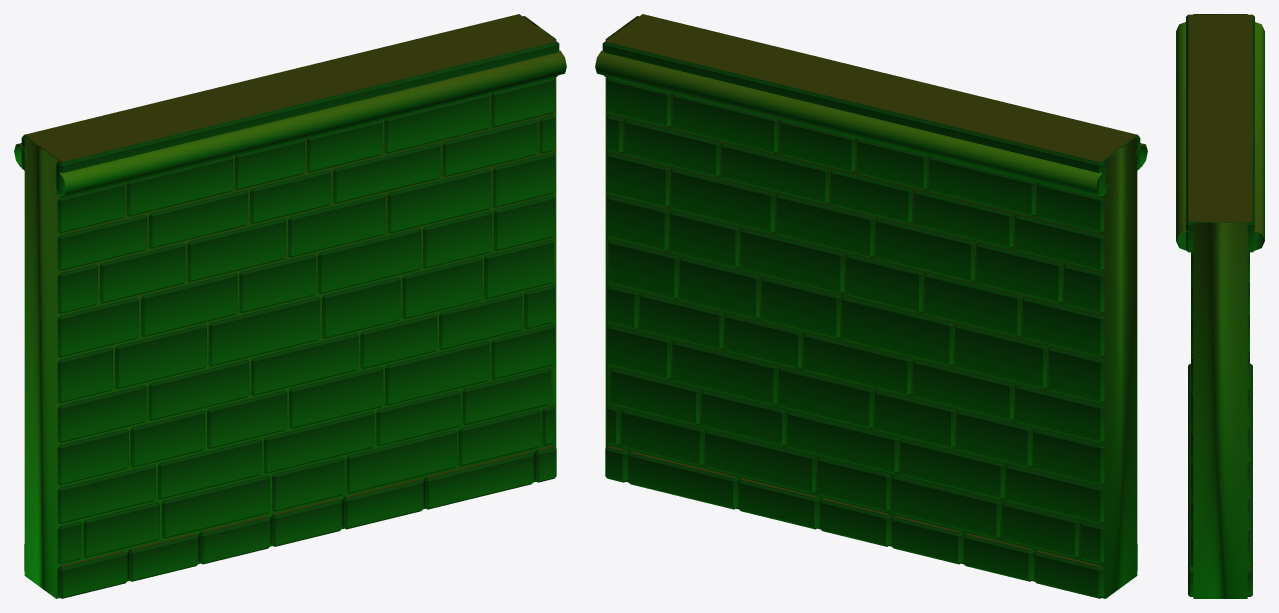
File: shrine_wall_straight.glb
3 renders of one model, left to right at view 1: azimuth 30°, elevation 25°; view 2: azimuth 150°, elevation 25°; view 3: azimuth 270°, elevation 25°, orthographic. The views are drawn at different scales.
Parts seen in each view (by area): view 1: shrine_wall_straight; view 2: shrine_wall_straight; view 3: shrine_wall_straight.
Part boxes in pixels (<box>): shrine_wall_straight: <box>14,14,566,598</box>; shrine_wall_straight: <box>595,14,1147,598</box>; shrine_wall_straight: <box>1176,14,1264,598</box>.
Size of what is drawn, in the model's own units: 5.02 by 4.2 by 0.9.
